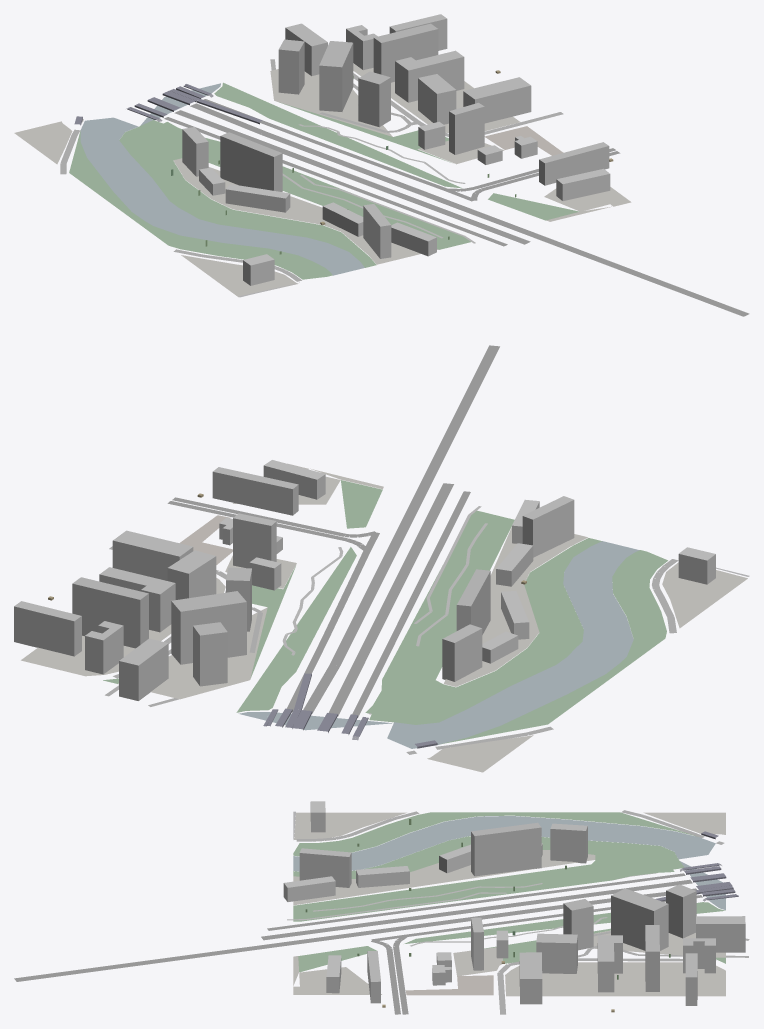
The picture shows the model from 3 angles, top to bottom: view 1: azimuth 30°, elevation 25°; view 2: azimuth 150°, elevation 25°; view 3: azimuth 270°, elevation 25°; orthographic projection. The views are drawn at different scales.
Size of the model in its own units: 562 by 56.66 by 851.
